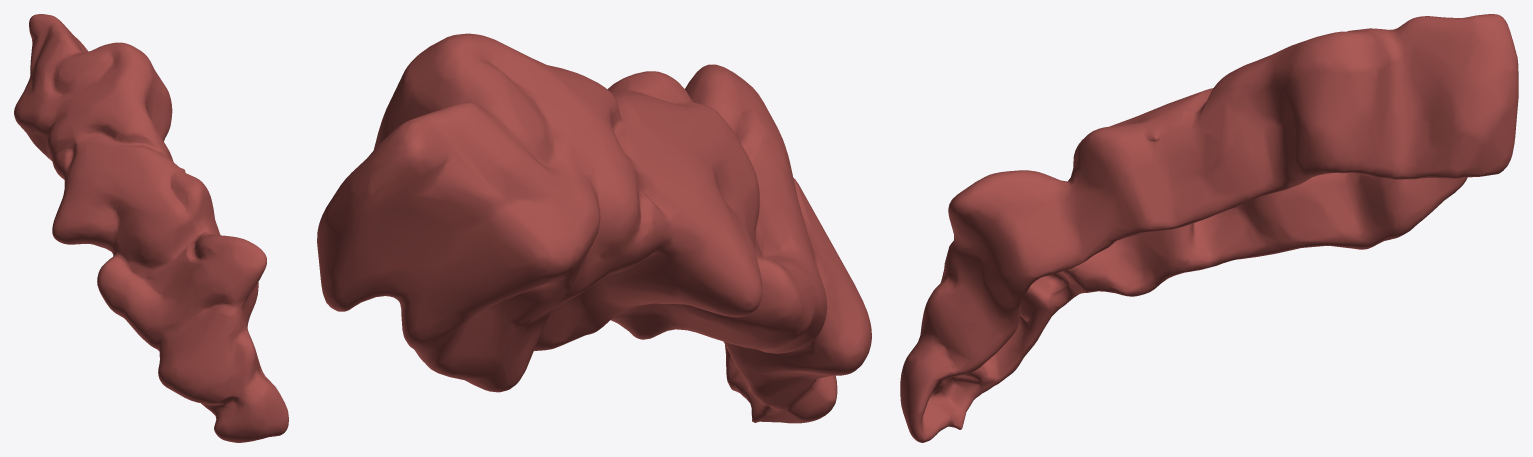
The model's file is FMA72655.glb.
The picture shows the model from 3 angles, left to right: view 1: azimuth 30°, elevation 25°; view 2: azimuth 150°, elevation 25°; view 3: azimuth 270°, elevation 25°; orthographic projection. The views are drawn at different scales.
Visible parts, largest first — view 1: FMA72655; view 2: FMA72655; view 3: FMA72655.
Boxes of the visible parts, x1=… form: FMA72655: x1=14, y1=14, x2=288, y2=442; FMA72655: x1=317, y1=33, x2=871, y2=423; FMA72655: x1=900, y1=14, x2=1518, y2=442.
Size of the model in its own units: 0.0328 by 0.0589 by 0.0809.
